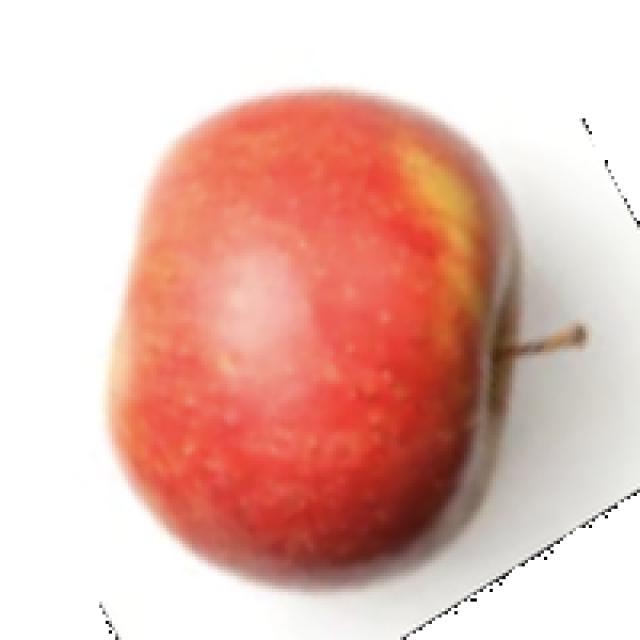apple: (96, 80, 602, 618)
